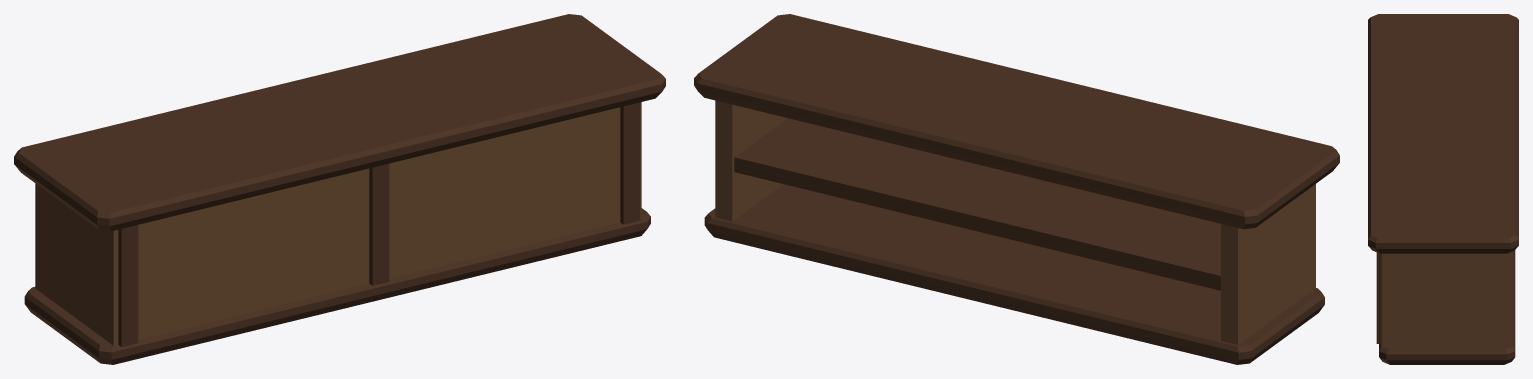
The model's file is fn_counter.glb.
3 renders of one model, left to right at view 1: azimuth 30°, elevation 25°; view 2: azimuth 150°, elevation 25°; view 3: azimuth 270°, elevation 25°, orthographic. The views are drawn at different scales.
Visible parts, largest first — view 1: fn_counter__wood_dark, fn_counter__plank; view 2: fn_counter__wood_dark, fn_counter__plank; view 3: fn_counter__wood_dark, fn_counter__plank.
Boxes of the visible parts, <box> form: fn_counter__wood_dark: <box>14,14,665,364</box>; fn_counter__plank: <box>35,102,641,345</box>; fn_counter__wood_dark: <box>694,14,1339,364</box>; fn_counter__plank: <box>715,100,1315,344</box>; fn_counter__wood_dark: <box>1368,14,1518,364</box>; fn_counter__plank: <box>1382,252,1509,345</box>.
Bounding box in the file's own units: 32 × 8.6 × 9.
